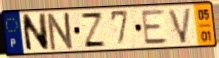7: (110, 9, 131, 48)
E: (140, 8, 170, 47)
N: (20, 12, 50, 53), (46, 11, 76, 52)
V: (167, 6, 194, 45)
Z: (79, 12, 108, 49)
